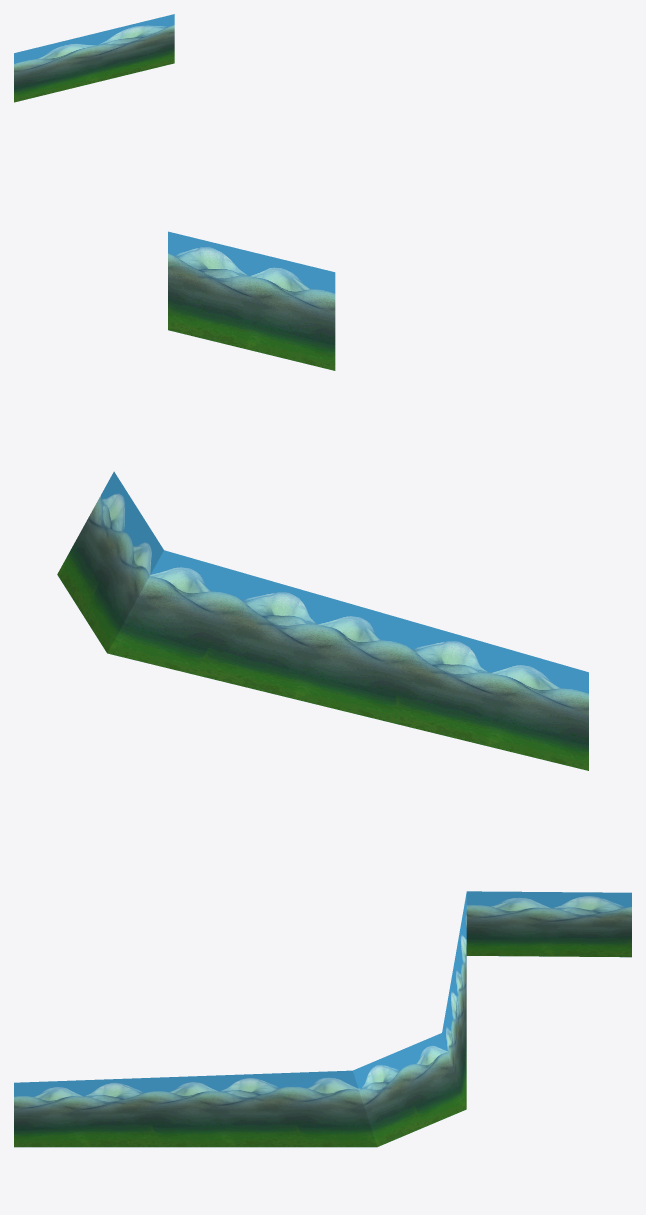
3 views of the same model, one above another, from view 1: azimuth 30°, elevation 25°; view 2: azimuth 150°, elevation 25°; view 3: azimuth 270°, elevation 25° (orthographic). The views are drawn at different scales.
Visible parts, largest first — view 1: m1; view 2: m1; view 3: m1.
Part boxes in pixels (<box>): m1: <box>14,14,174,102</box>; m1: <box>57,231,588,770</box>; m1: <box>14,891,631,1147</box>.
Size of the model in its own units: 19016 by 2338 by 20294.
Materials: 1 (1 with a texture image).
